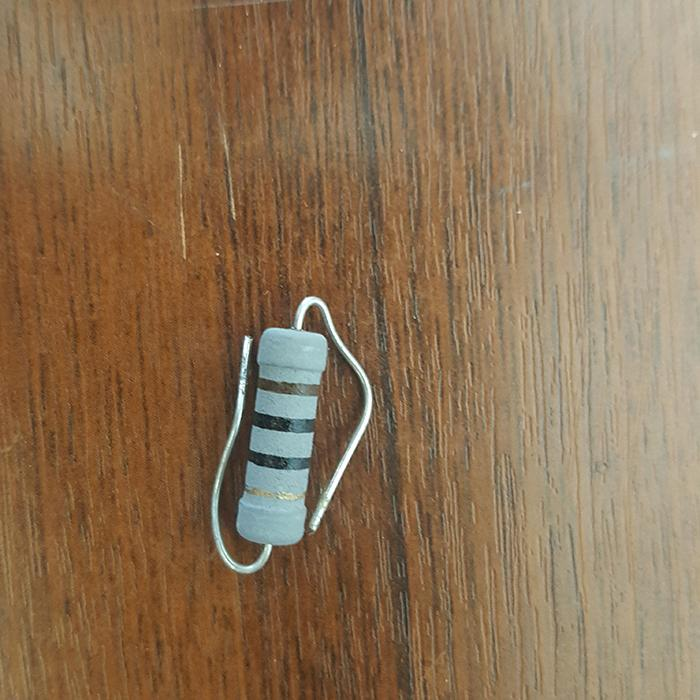resistor: (231, 334, 329, 547)
